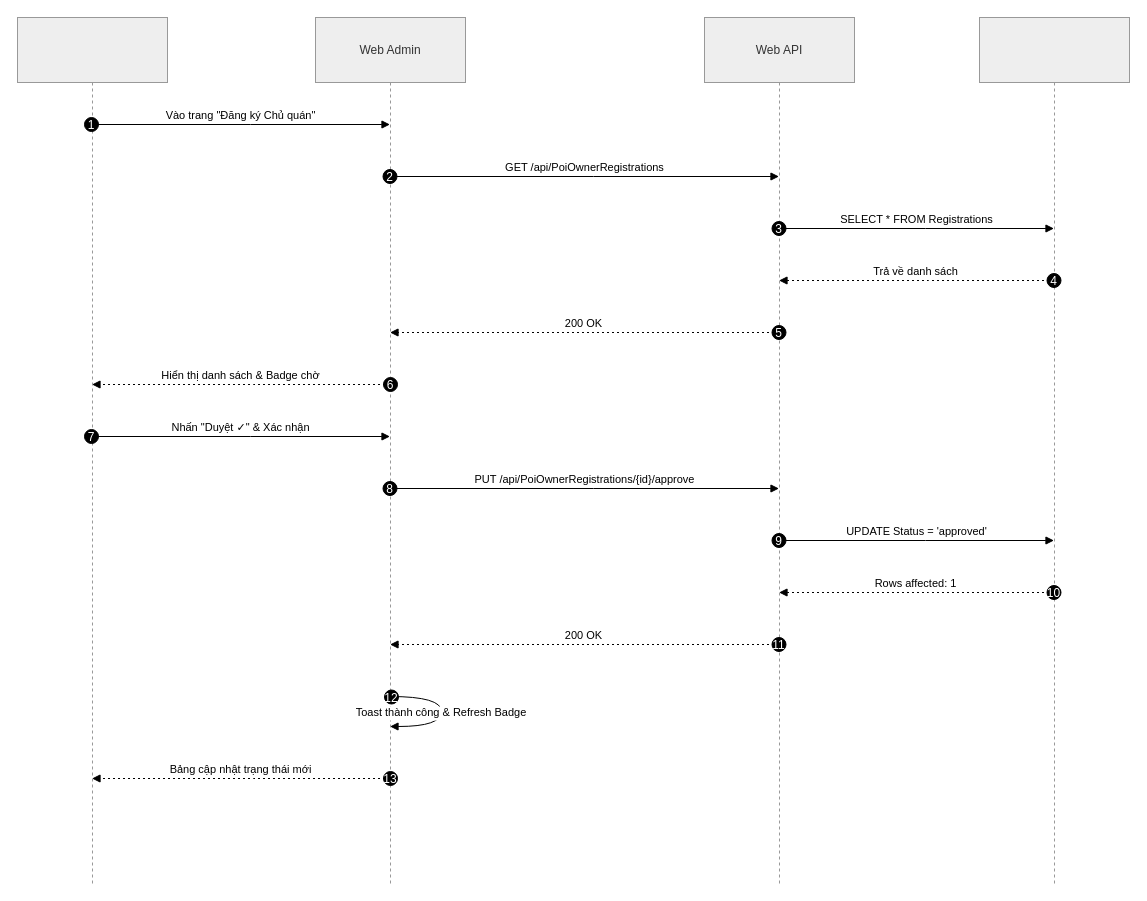
This 1147x901 diagram has some shape labels left out. The box of each missing label's shape, as (x1, y1, x2, y2) in pixels:
Admin: (16, 16, 168, 884)
Database: (978, 16, 1130, 884)
